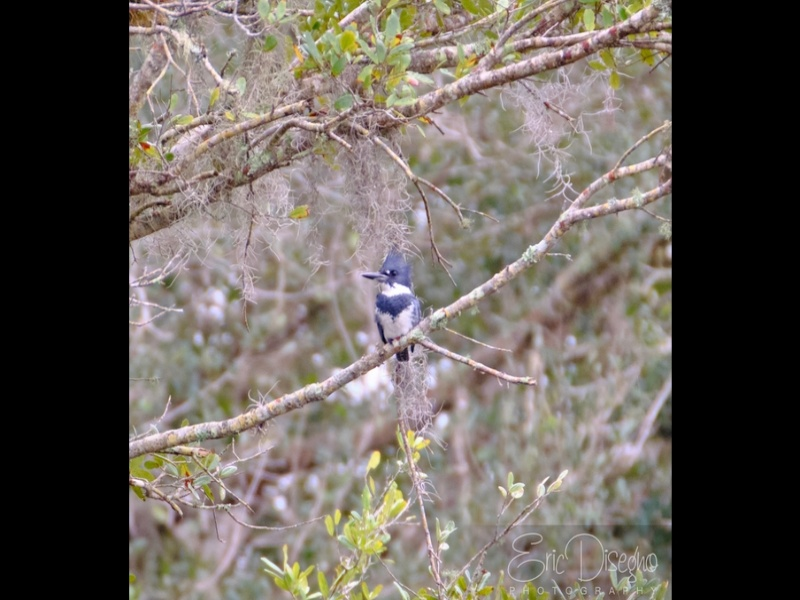kingfisher: (363, 248, 424, 364)
